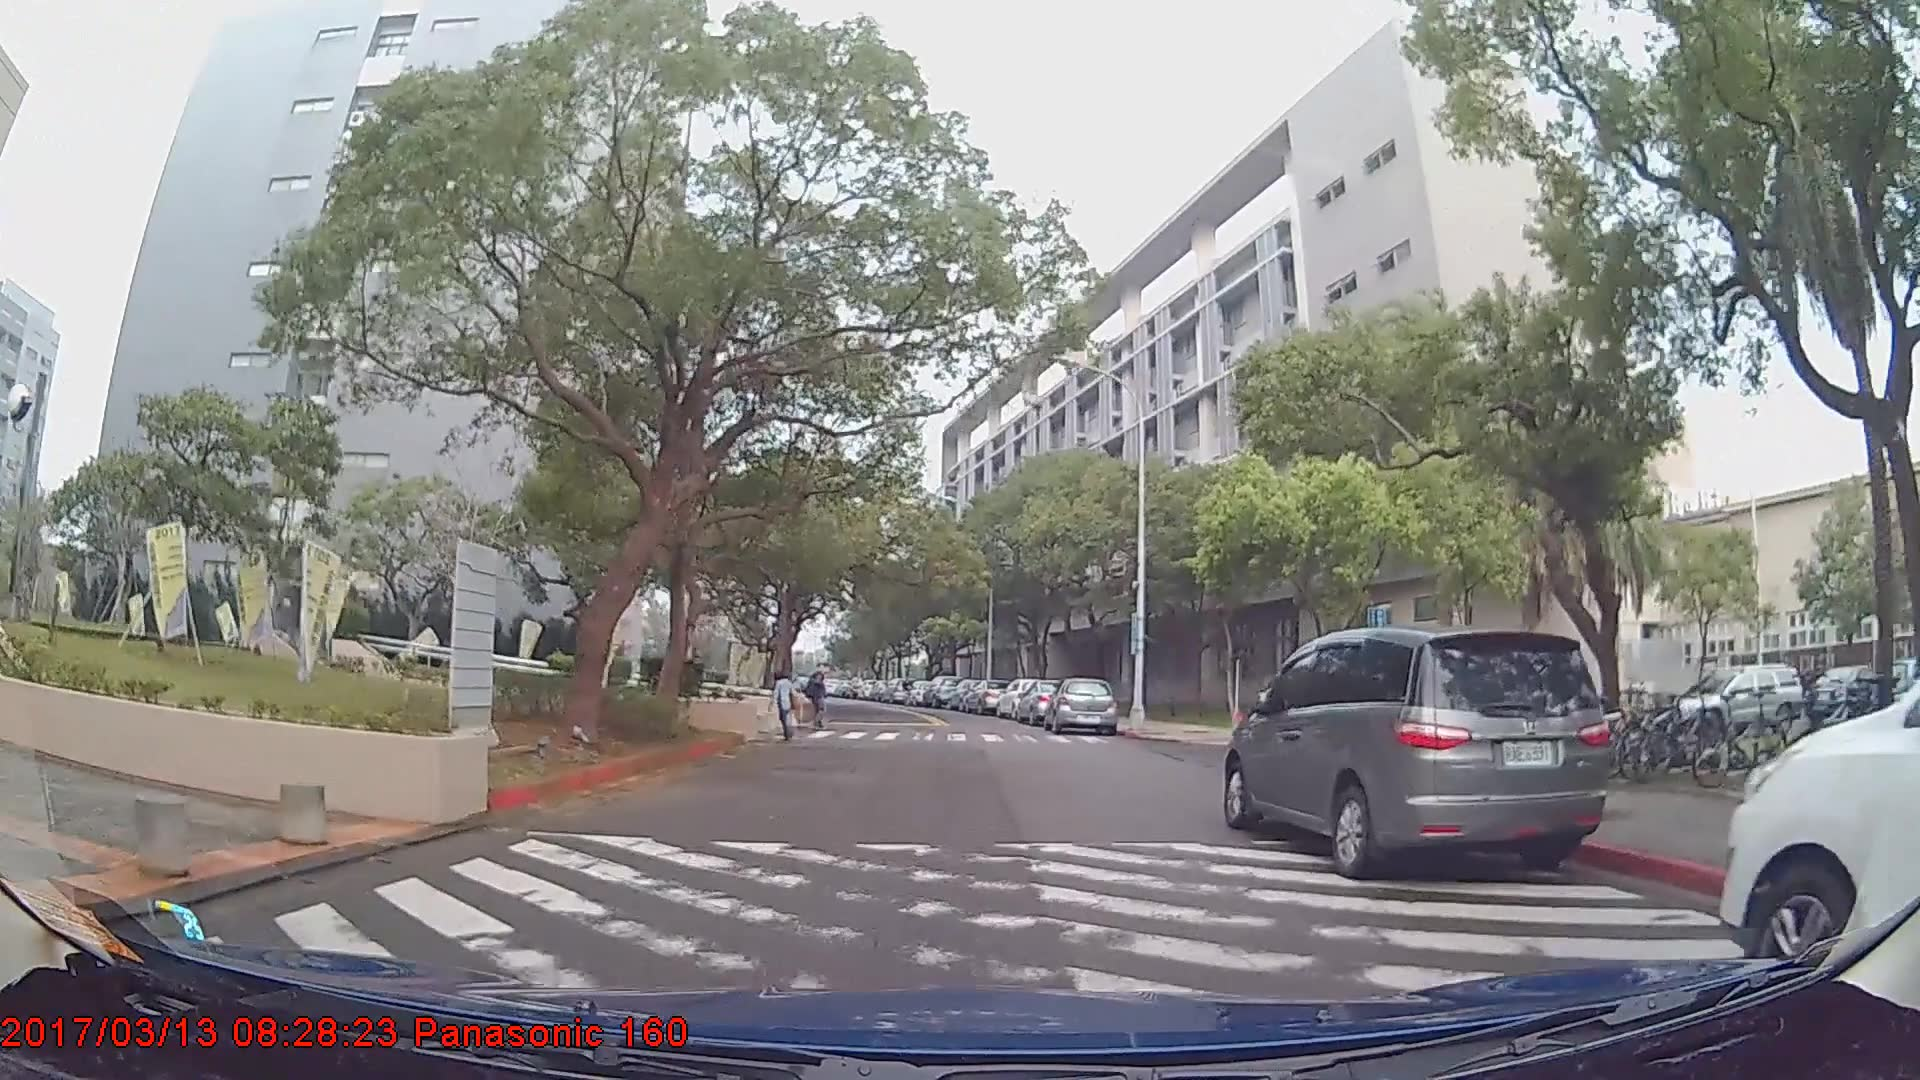pedestrian: (772, 673, 801, 744), (806, 661, 832, 735)
vehicle: (1224, 625, 1615, 885), (1722, 671, 1920, 1008), (1673, 664, 1810, 744), (1802, 662, 1889, 722), (1049, 678, 1119, 737), (921, 674, 962, 708), (965, 682, 1008, 716)
